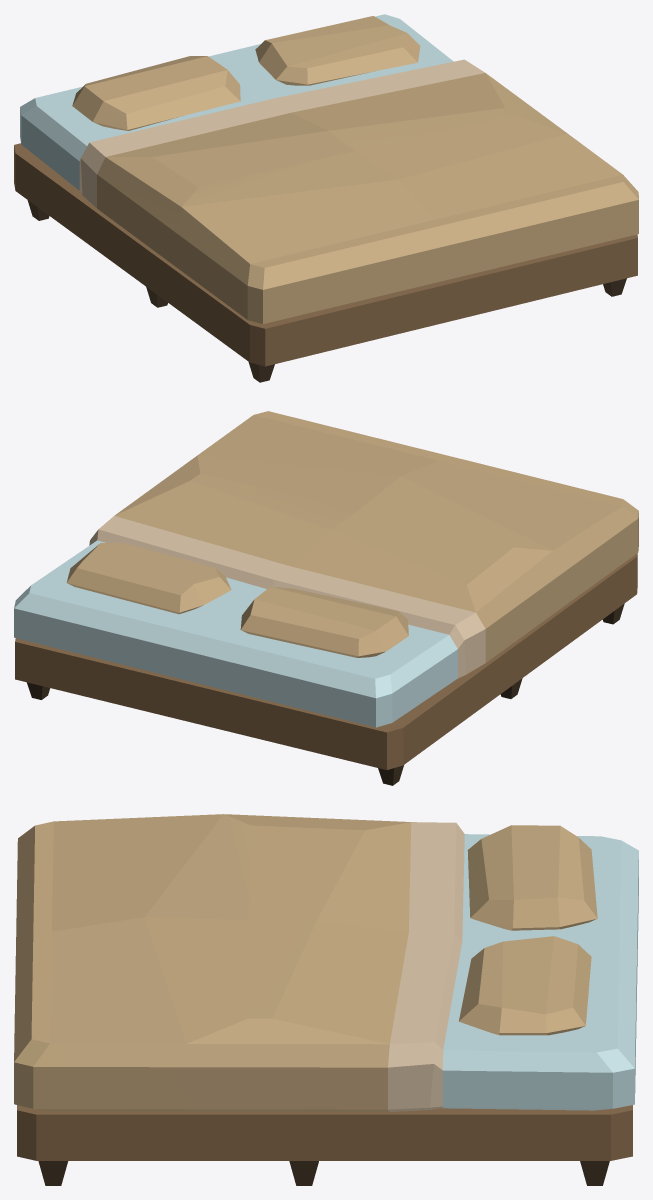
Rendered from BoxBedCouple.glb.
3 renders of one model, top to bottom at view 1: azimuth 30°, elevation 25°; view 2: azimuth 150°, elevation 25°; view 3: azimuth 270°, elevation 25°, orthographic. The views are drawn at different scales.
Visible parts, largest first — view 1: BoxBedCouple; view 2: BoxBedCouple; view 3: BoxBedCouple.
Boxes of the visible parts, box(x1,y1,x2,y2) form: BoxBedCouple: box(14, 14, 638, 382); BoxBedCouple: box(14, 411, 638, 785); BoxBedCouple: box(14, 814, 638, 1185).
Bounding box in the file's own units: 1.95 × 0.6461 × 2.21.
Materials: 1 (1 with a texture image).
